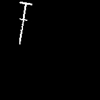double_crochet: (19, 2, 31, 43)
